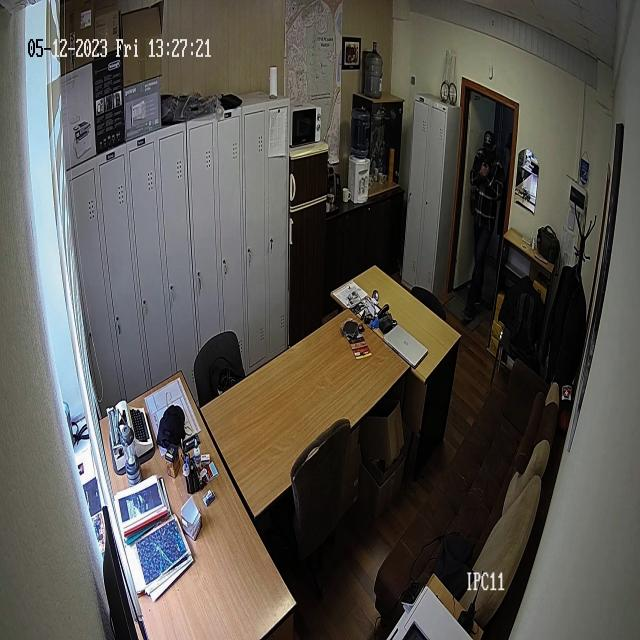gun: (461, 127, 503, 328), (480, 158, 490, 178)
